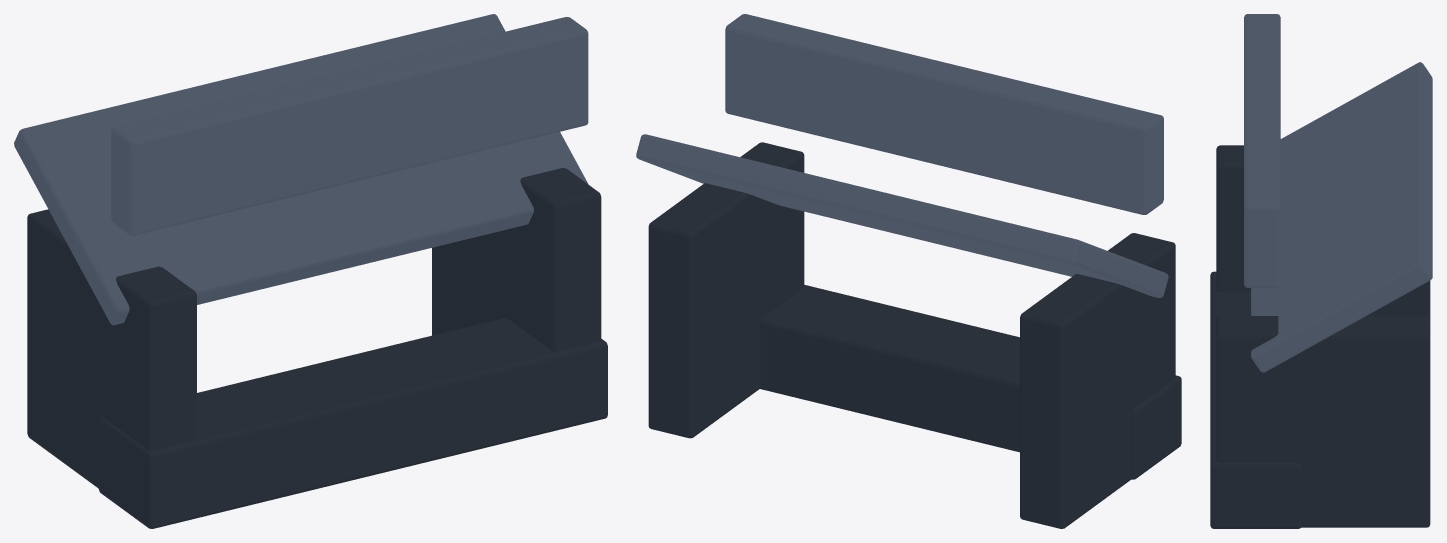
Rendered from consola_mesa.glb.
The picture shows the model from 3 angles, left to right: view 1: azimuth 30°, elevation 25°; view 2: azimuth 150°, elevation 25°; view 3: azimuth 270°, elevation 25°; orthographic projection. The views are drawn at different scales.
Parts seen in each view (by area): view 1: Cube.012, Cube.013, Cube.015, Cube.011, Cube.010; view 2: Cube.015, Cube.012, Cube.011, Cube.010, Cube.013; view 3: Cube.010, Cube.013, Cube.015, Cube.012, Cube.011.
Part boxes in pixels (<box>): Cube.012: <box>98,317,607,528</box>; Cube.013: <box>14,14,588,325</box>; Cube.015: <box>111,17,588,235</box>; Cube.011: <box>27,209,196,488</box>; Cube.010: <box>432,167,601,351</box>; Cube.015: <box>725,14,1163,214</box>; Cube.012: <box>760,285,1181,479</box>; Cube.011: <box>1020,233,1175,528</box>; Cube.010: <box>648,142,804,438</box>; Cube.013: <box>636,134,1168,297</box>; Cube.010: <box>1216,316,1430,527</box>; Cube.013: <box>1251,62,1432,372</box>; Cube.015: <box>1244,14,1280,287</box>; Cube.012: <box>1210,271,1301,528</box>; Cube.011: <box>1216,145,1430,318</box>.
Bounding box in the file's own units: 1.56 × 1.17 × 0.7274.
